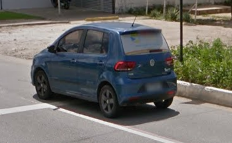car: (30, 19, 180, 119)
